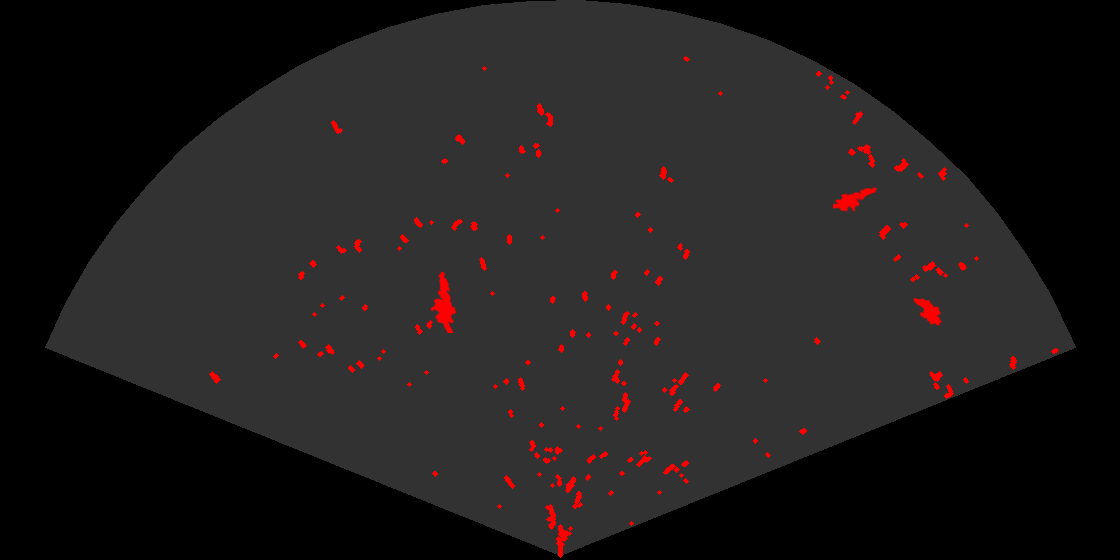AUV: (912, 296, 943, 327)
frogman: (429, 270, 458, 333), (833, 186, 877, 213)
